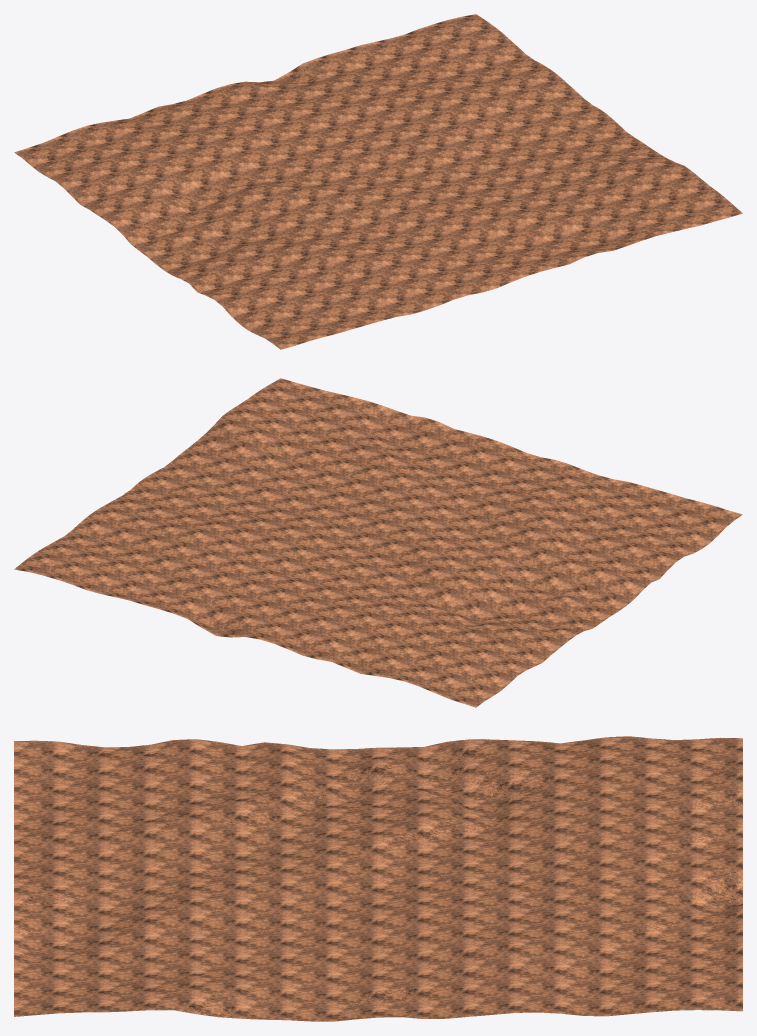
File: terrain_06_12.dae
The picture shows the model from 3 angles, top to bottom: view 1: azimuth 30°, elevation 25°; view 2: azimuth 150°, elevation 25°; view 3: azimuth 270°, elevation 25°; orthographic projection. The views are drawn at different scales.
Visible parts, largest first — view 1: terrain_06_12-node; view 2: terrain_06_12-node; view 3: terrain_06_12-node.
Part boxes in pixels (box(x1,y1,x2,y2)): terrain_06_12-node: box(14, 14, 742, 349); terrain_06_12-node: box(14, 378, 742, 707); terrain_06_12-node: box(14, 736, 742, 1021).
Bounding box in the file's own units: 128 × 128 × 9.27.
Materials: 1 (1 with a texture image).
